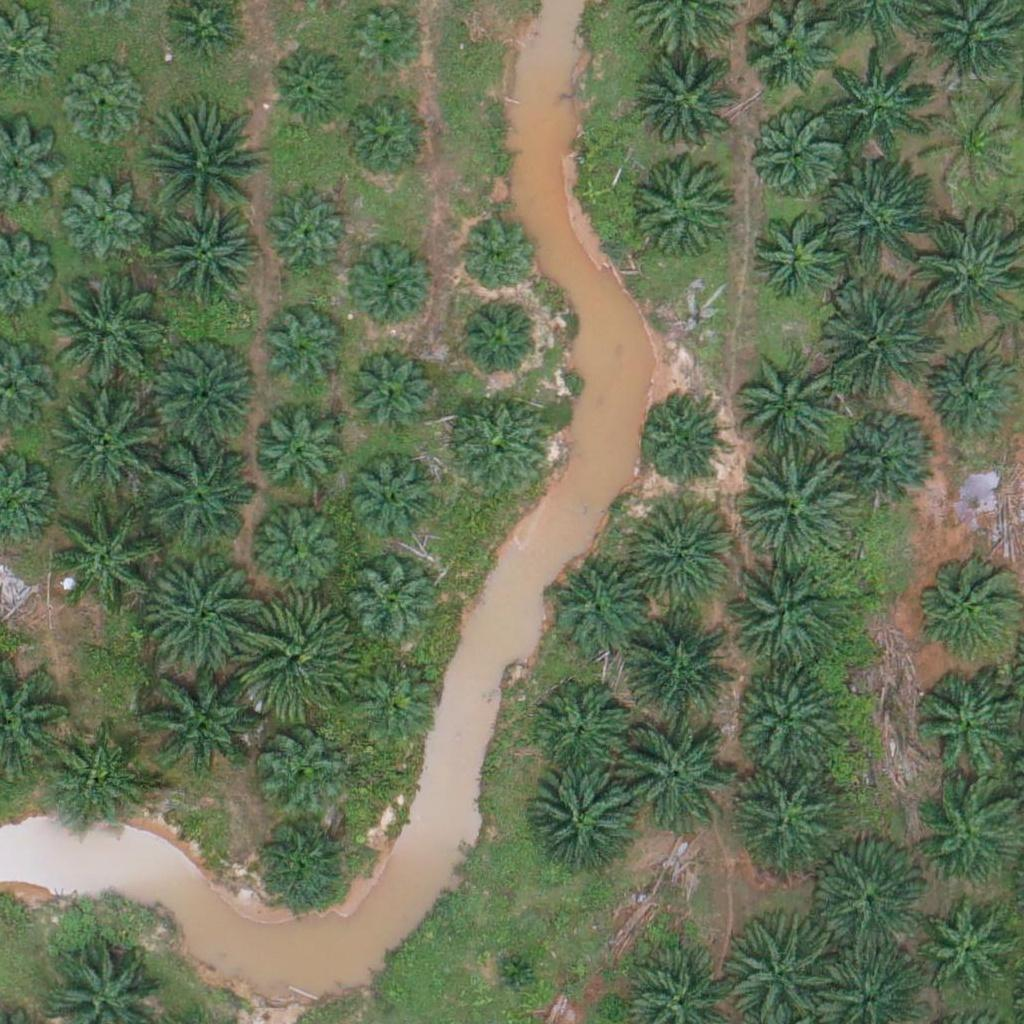Kelapa_Sawit: (735, 657, 848, 771), (823, 285, 936, 399), (726, 562, 839, 676), (624, 498, 737, 612), (141, 335, 254, 449), (523, 769, 636, 882), (824, 159, 937, 272), (240, 599, 353, 712), (148, 112, 261, 225), (145, 433, 258, 546), (623, 606, 735, 720), (633, 49, 745, 163), (152, 560, 264, 674), (816, 852, 928, 965), (727, 760, 839, 873), (727, 908, 839, 1021), (615, 717, 727, 830), (141, 662, 253, 775), (821, 46, 933, 159), (737, 339, 849, 452), (741, 453, 853, 566), (146, 205, 258, 318), (53, 499, 165, 612), (53, 390, 165, 503), (49, 278, 161, 391), (917, 901, 1017, 1002), (530, 679, 630, 780), (833, 406, 933, 507), (743, 106, 843, 207), (747, 202, 847, 303), (636, 158, 736, 259), (449, 391, 549, 492), (341, 452, 441, 553), (549, 559, 649, 660), (251, 814, 351, 914), (48, 735, 148, 835), (922, 352, 1022, 452), (251, 498, 351, 598), (255, 402, 355, 502), (255, 721, 343, 809), (338, 95, 426, 183), (352, 656, 440, 744), (261, 305, 349, 393), (60, 64, 148, 152), (637, 392, 724, 480), (267, 43, 354, 131), (260, 191, 347, 279), (349, 248, 436, 336), (456, 294, 543, 382), (350, 564, 437, 652), (345, 343, 432, 431), (59, 177, 146, 265), (350, 8, 425, 84), (459, 221, 534, 297), (488, 944, 538, 995)
